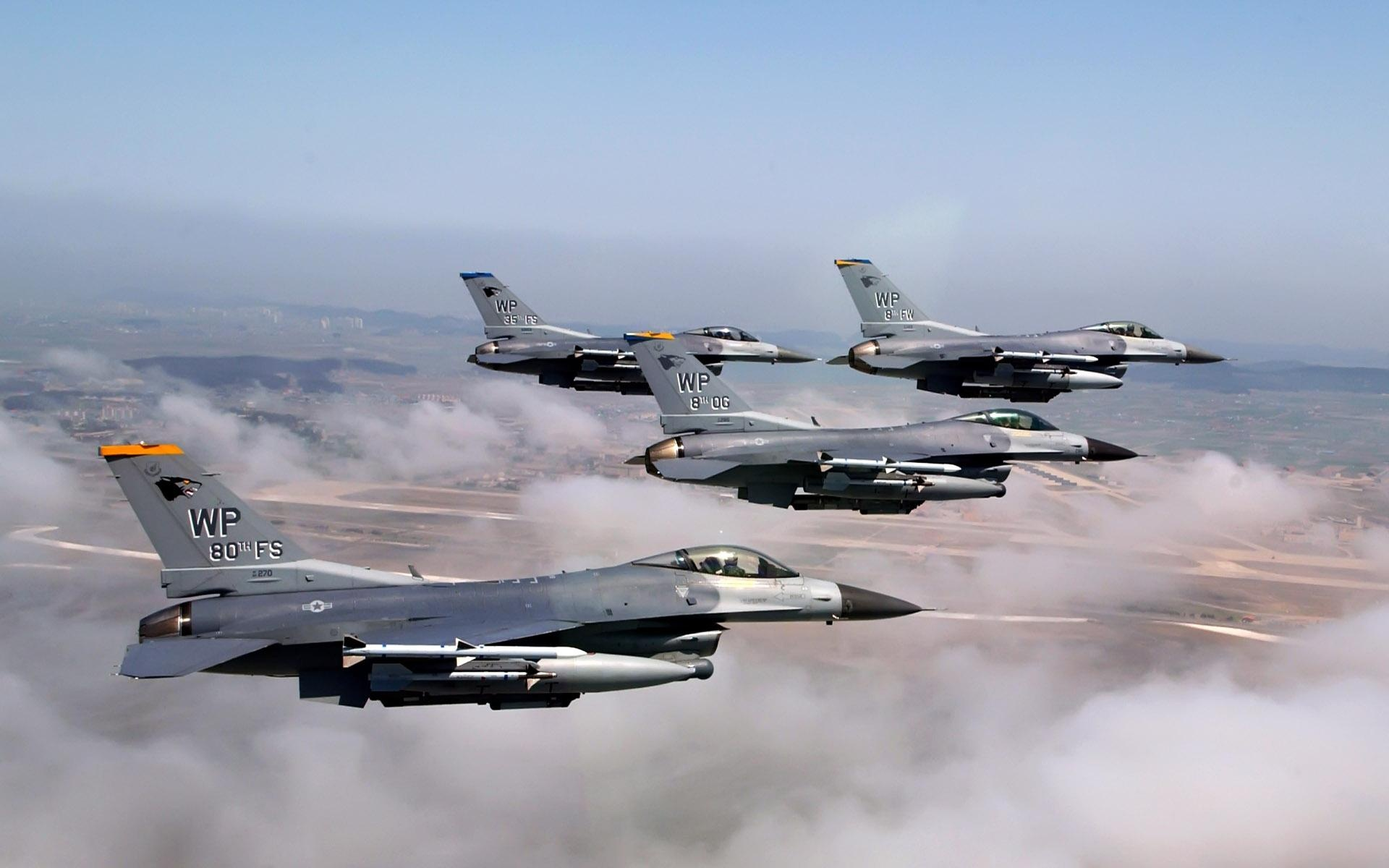aircraft: (64, 441, 920, 711), (612, 333, 1120, 519), (828, 255, 1233, 398), (458, 269, 831, 387)
